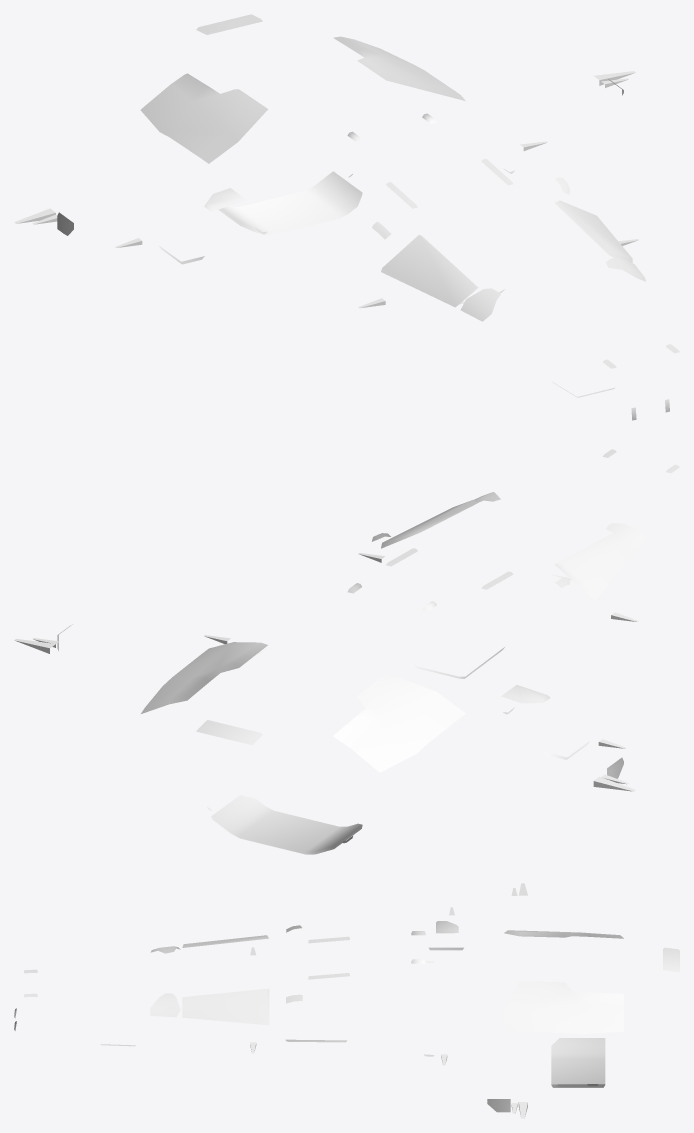
File: hgn_assault_frigate_01_t1.glb
The picture shows the model from 3 angles, top to bottom: view 1: azimuth 30°, elevation 25°; view 2: azimuth 150°, elevation 25°; view 3: azimuth 270°, elevation 25°; orthographic projection. The views are drawn at different scales.
Visible parts, largest first — view 1: hgn_assault_frigate_01_t1_LOD0; view 2: hgn_assault_frigate_01_t1_LOD0; view 3: hgn_assault_frigate_01_t1_LOD0.
Part boxes in pixels (x1,y1,x2,y2): hgn_assault_frigate_01_t1_LOD0: (14, 14, 679, 420); hgn_assault_frigate_01_t1_LOD0: (14, 449, 679, 854); hgn_assault_frigate_01_t1_LOD0: (14, 883, 679, 1118).
Size of what is drawn, in the model's own units: 2.21 by 0.5597 by 2.64.
Materials: 1 (1 with a texture image).
